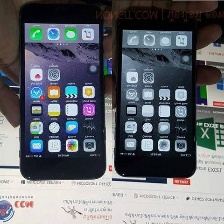phone: (15, 0, 110, 183), (109, 5, 202, 181)
